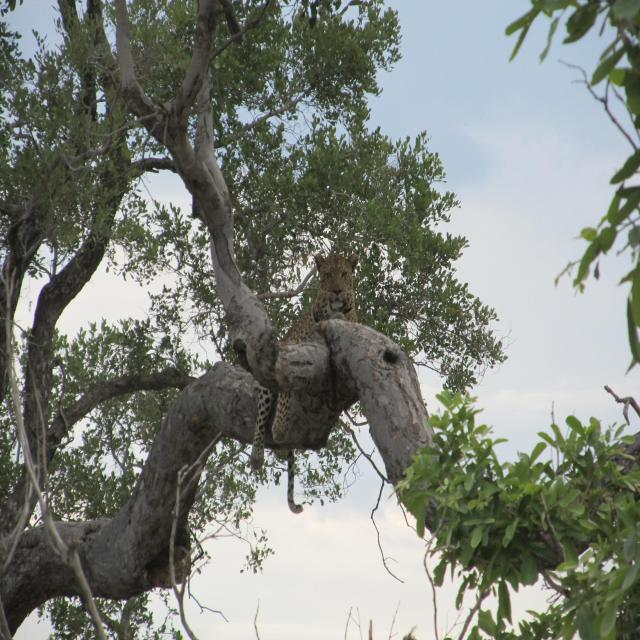Leopard: (203, 268, 379, 490)
